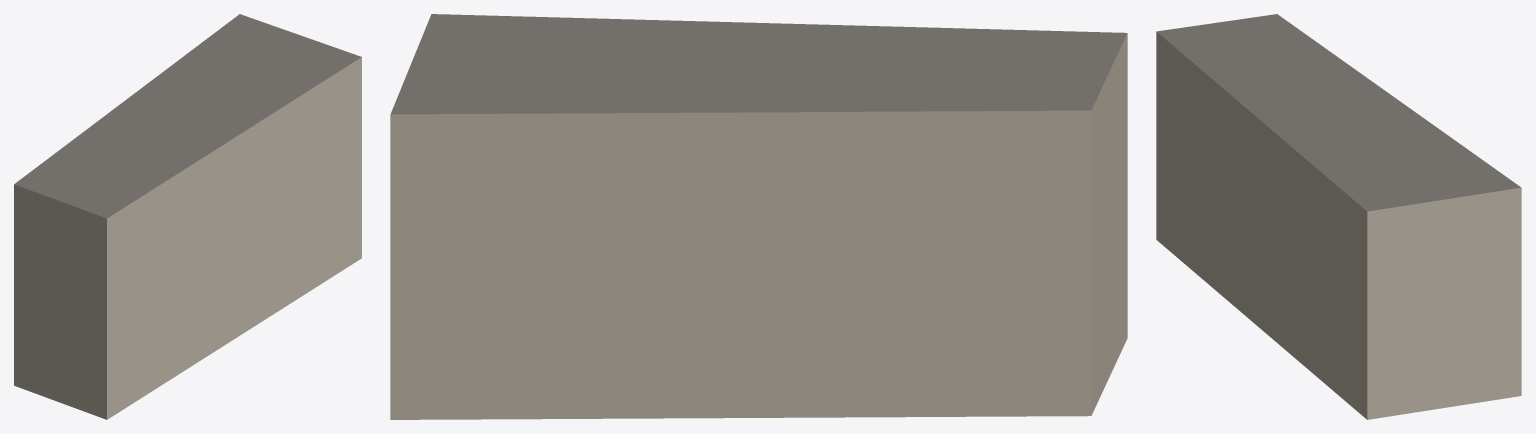
3 views of the same model, side by side, from view 1: azimuth 30°, elevation 25°; view 2: azimuth 150°, elevation 25°; view 3: azimuth 270°, elevation 25° (orthographic). The views are drawn at different scales.
Parts seen in each view (by area): view 1: HP-w505655136; view 2: HP-w505655136; view 3: HP-w505655136.
Boxes of the visible parts, x1,y1,x2,y2 form: HP-w505655136: [14, 14, 361, 419]; HP-w505655136: [390, 14, 1127, 419]; HP-w505655136: [1156, 14, 1521, 419].
Size of the model in its own units: 30.51 by 15 by 23.83.
